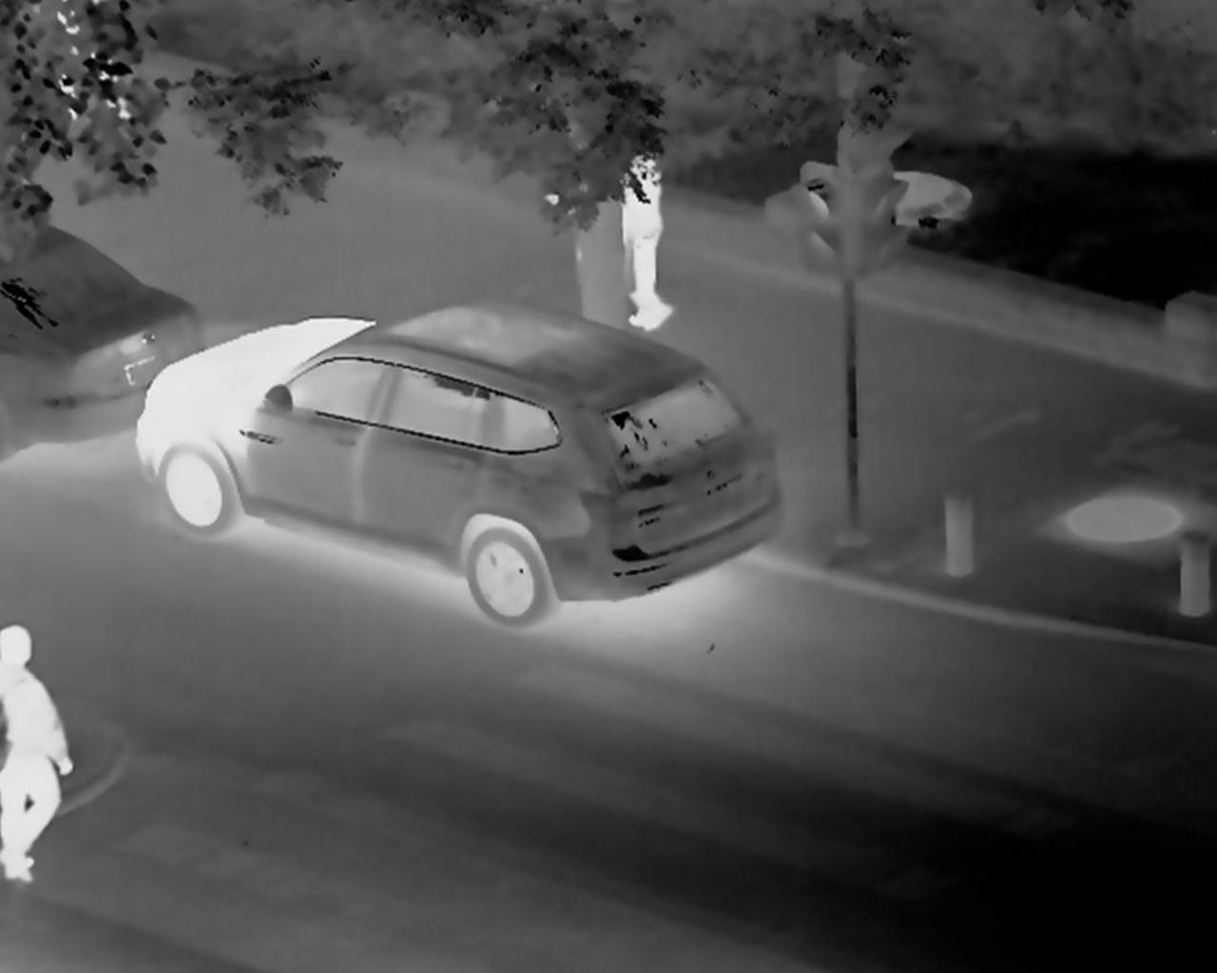person: (2, 635, 64, 891), (618, 164, 678, 367)
